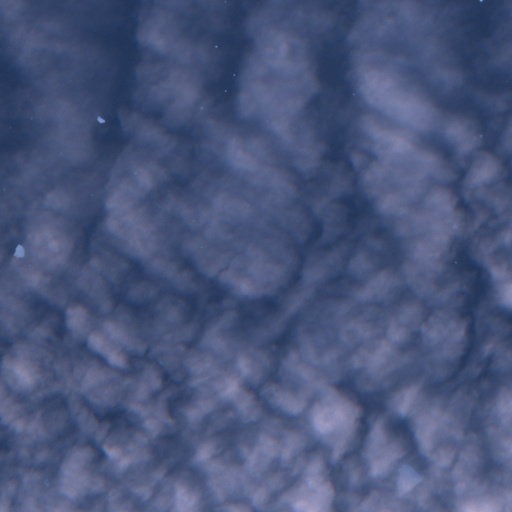Iceberg: (396, 464, 424, 497), (14, 244, 24, 258), (97, 116, 105, 123), (200, 107, 203, 109), (478, 0, 483, 1), (215, 45, 217, 47), (480, 135, 482, 137), (224, 0, 225, 2), (233, 74, 234, 75), (225, 90, 226, 91), (353, 93, 354, 94), (455, 262, 456, 263)
